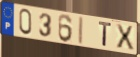0: (18, 8, 33, 37)
3: (38, 13, 53, 39)
6: (57, 13, 73, 44)
I: (77, 16, 85, 46)
T: (98, 21, 113, 48)
X: (115, 23, 136, 51)
